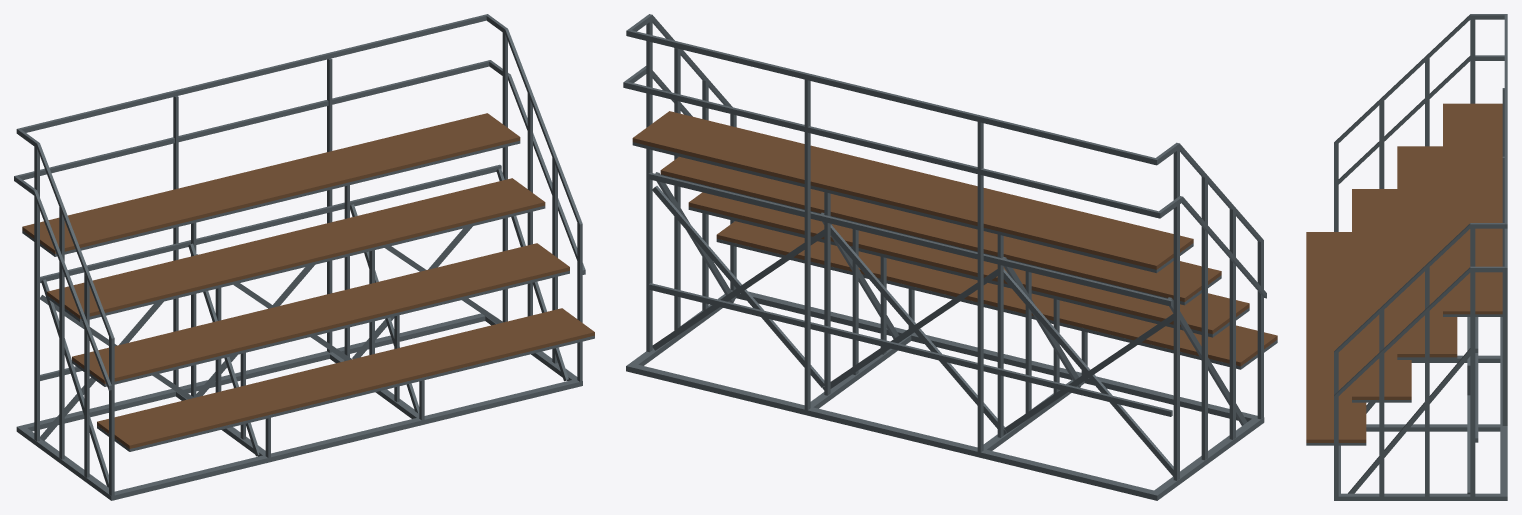
Rendered from bleachers.glb.
3 renders of one model, left to right at view 1: azimuth 30°, elevation 25°; view 2: azimuth 150°, elevation 25°; view 3: azimuth 270°, elevation 25°, orthographic. The views are drawn at different scales.
Visible parts, largest first — view 1: Seat, Frame; view 2: Frame, Seat; view 3: Seat, Frame.
Boxes of the visible parts, box(x1,y1,x2,y2) form: Seat: box(22, 113, 594, 448); Frame: box(14, 14, 594, 500); Frame: box(623, 14, 1277, 500); Seat: box(632, 111, 1277, 366); Seat: box(1306, 103, 1502, 442); Frame: box(1306, 14, 1507, 500).
Size of the model in its own units: 4.21 by 2.55 by 1.68.
